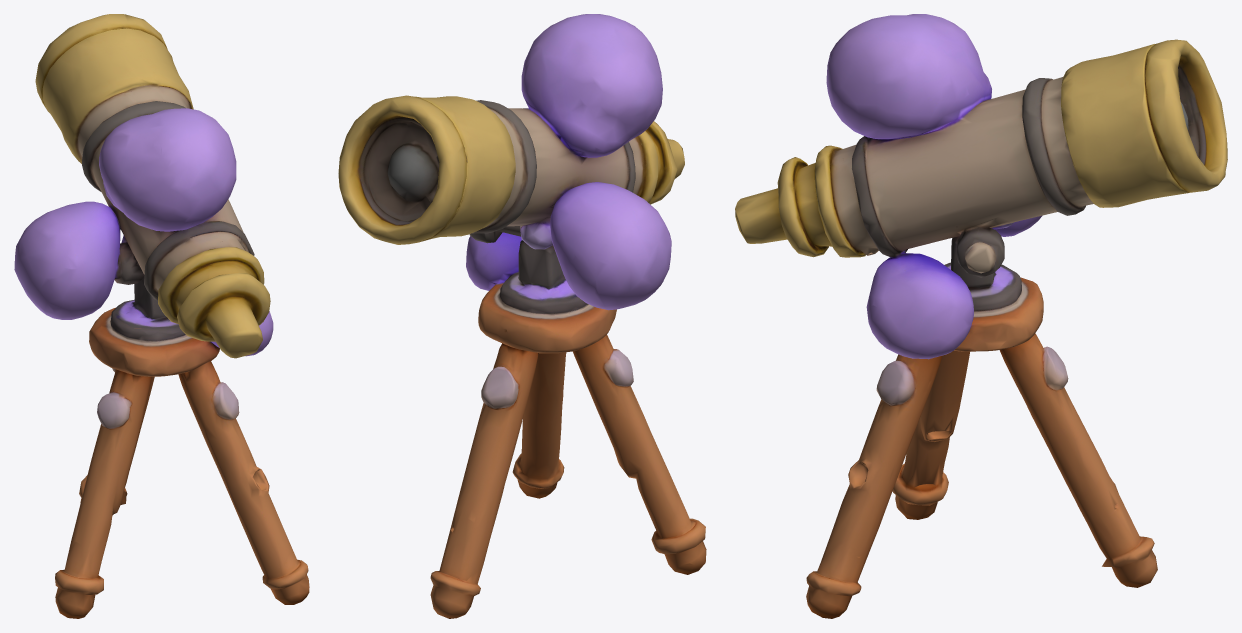
The model's file is telescope.glb.
3 views of the same model, side by side, from view 1: azimuth 30°, elevation 25°; view 2: azimuth 150°, elevation 25°; view 3: azimuth 270°, elevation 25° (orthographic). The views are drawn at different scales.
Visible parts, largest first — view 1: tripo_node_062dd0d9-c3fb-4044-90de-04350b96afd8; view 2: tripo_node_062dd0d9-c3fb-4044-90de-04350b96afd8; view 3: tripo_node_062dd0d9-c3fb-4044-90de-04350b96afd8.
Part boxes in pixels (bbox=[...]): tripo_node_062dd0d9-c3fb-4044-90de-04350b96afd8: bbox=[14, 14, 309, 618]; tripo_node_062dd0d9-c3fb-4044-90de-04350b96afd8: bbox=[338, 14, 706, 618]; tripo_node_062dd0d9-c3fb-4044-90de-04350b96afd8: bbox=[735, 14, 1227, 618].
Bounding box in the file's own units: 0.4759 × 1 × 0.8088.
1 material, 1 textured.
